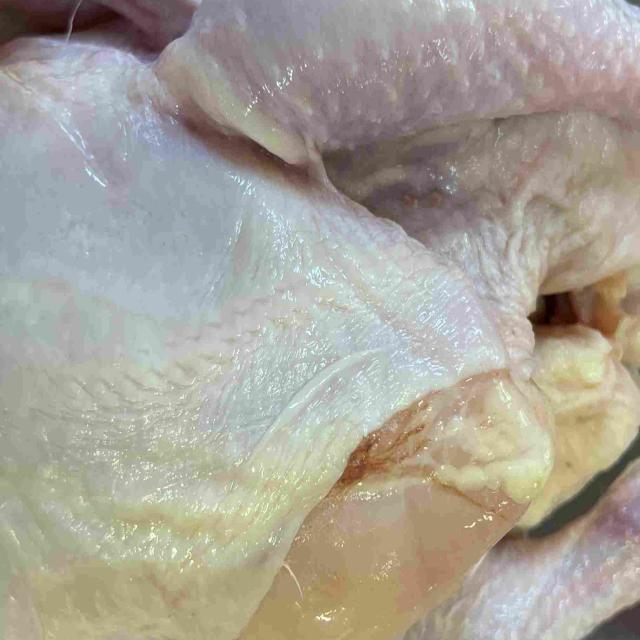breast: (0, 44, 547, 640)
leg: (167, 0, 640, 161), (397, 461, 640, 640)
